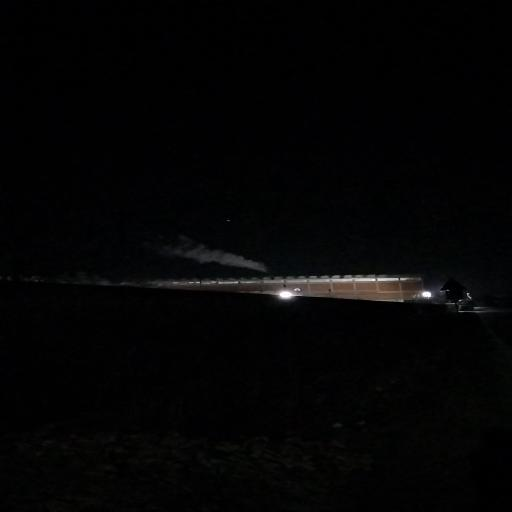leakage: (160, 230, 282, 278)
